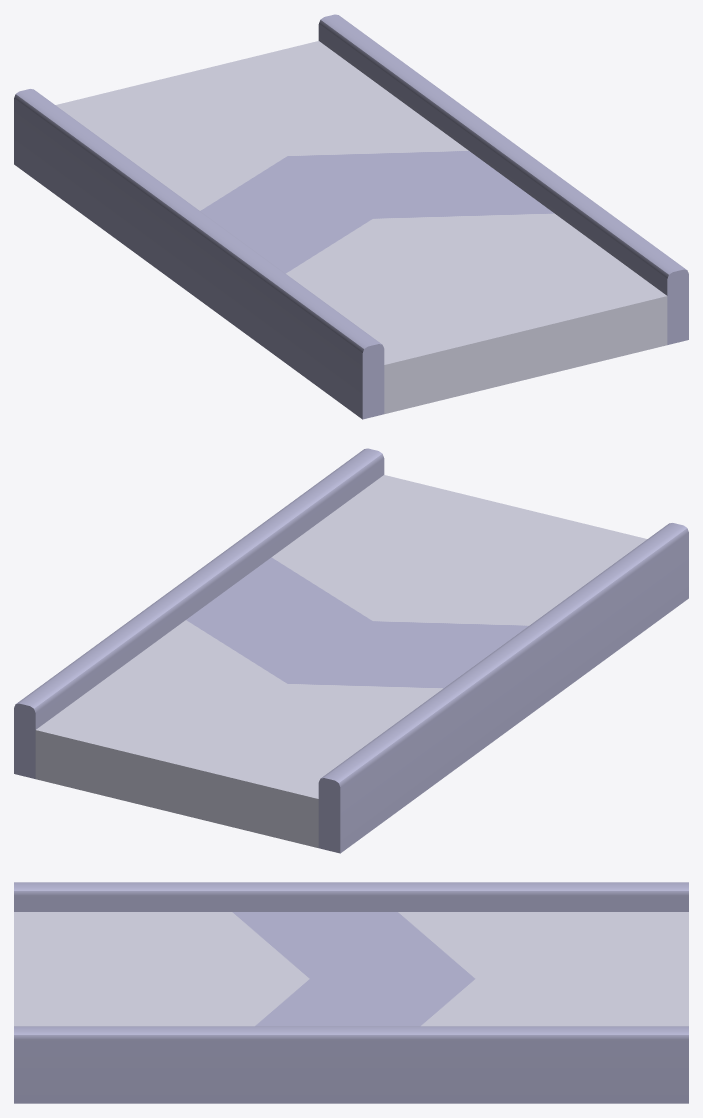
Rendered from zemin2lideneme.fbx.
The picture shows the model from 3 angles, top to bottom: view 1: azimuth 30°, elevation 25°; view 2: azimuth 150°, elevation 25°; view 3: azimuth 270°, elevation 25°; orthographic projection. The views are drawn at different scales.
Visible parts, largest first — view 1: zemin2lideneme; view 2: zemin2lideneme; view 3: zemin2lideneme.
Part boxes in pixels (bbox=[...]): zemin2lideneme: bbox=[14, 14, 688, 419]; zemin2lideneme: bbox=[14, 448, 688, 853]; zemin2lideneme: bbox=[14, 882, 688, 1103].
Size of the model in its own units: 346 by 72.55 by 640.
1 material, 1 textured.
